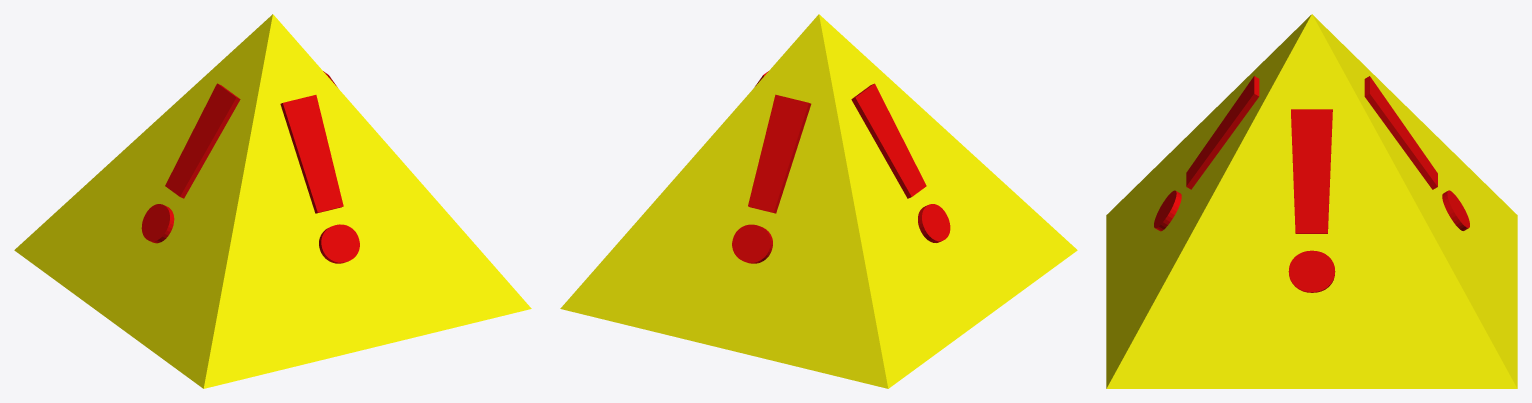
File: error pyramid.gltf
3 renders of one model, left to right at view 1: azimuth 30°, elevation 25°; view 2: azimuth 150°, elevation 25°; view 3: azimuth 270°, elevation 25°, orthographic. The views are drawn at different scales.
Parts seen in each view (by area): view 1: node-0; view 2: node-0; view 3: node-0.
Part boxes in pixels (box(x1,y1,x2,y2)): node-0: box(14, 14, 531, 388); node-0: box(560, 14, 1077, 388); node-0: box(1106, 14, 1517, 388).
Size of the model in its own units: 4 by 3.09 by 4.
